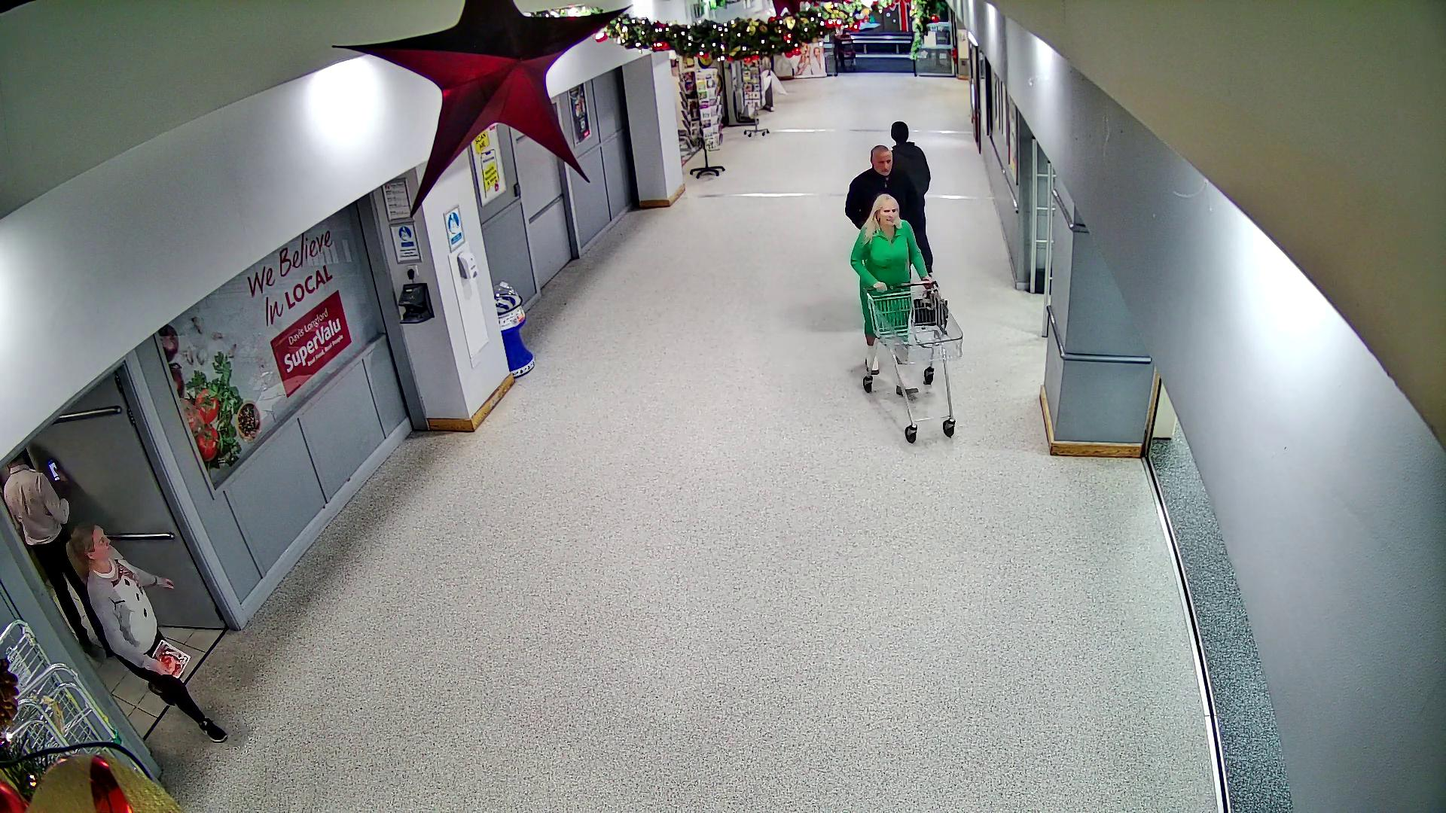backpack-or-handbag: (911, 293, 949, 331)
empty-trolly: (862, 279, 963, 443)
person: (849, 195, 930, 395)
person-with-basket-trolly-and-backpack-handbag: (849, 194, 964, 444)
